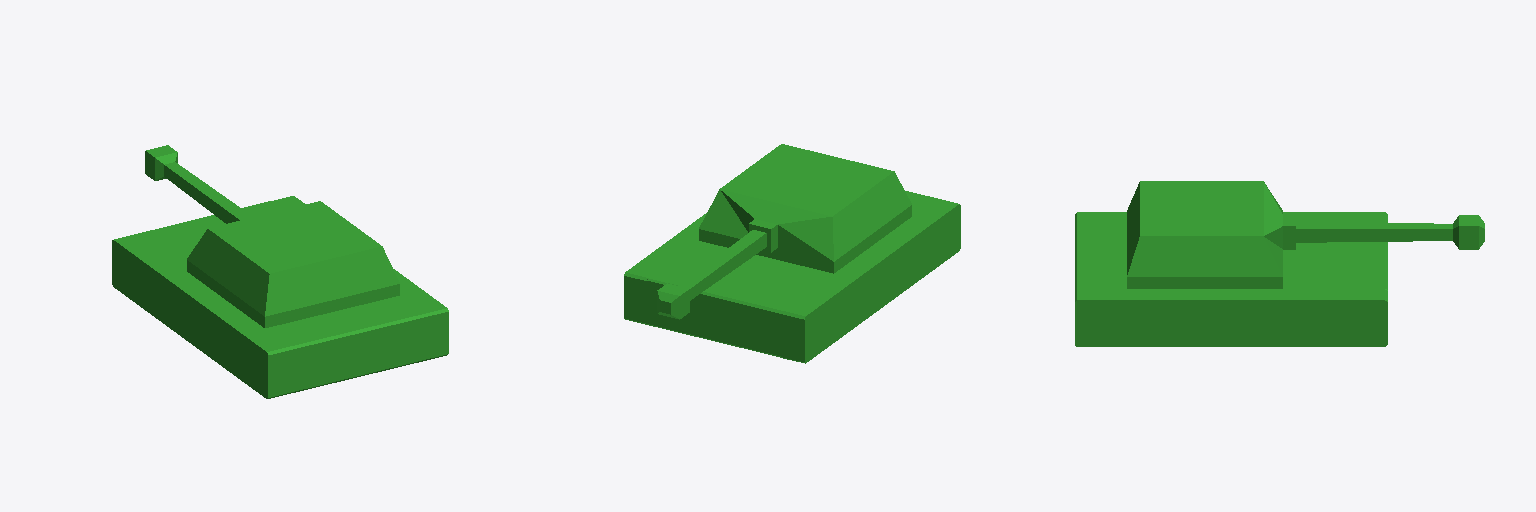
Rendered from tank.obj.
3 renders of one model, left to right at view 1: azimuth 30°, elevation 25°; view 2: azimuth 150°, elevation 25°; view 3: azimuth 270°, elevation 25°, orthographic.
Visible parts, largest first — view 1: tank; view 2: tank; view 3: tank.
Boxes of the visible parts, <box> form: tank: <box>112,145,448,398</box>; tank: <box>624,144,960,363</box>; tank: <box>1075,181,1484,346</box>.
Size of the model in its own units: 4 by 2 by 7.88.